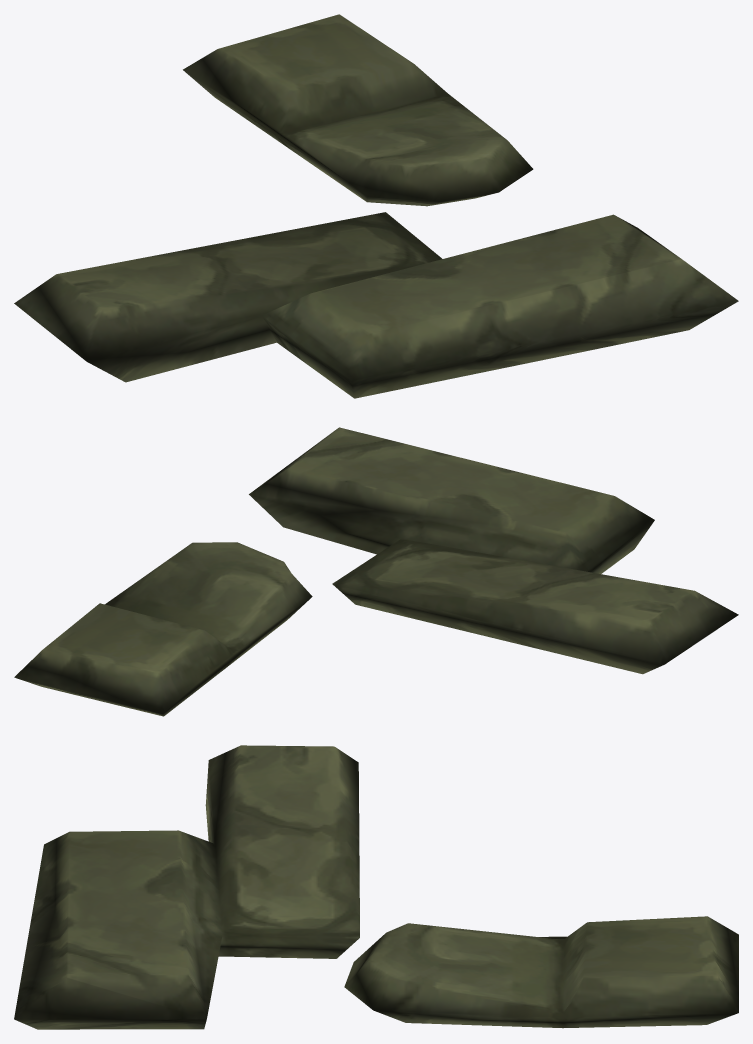
File: loose_rocks_03.fbx
3 views of the same model, one above another, from view 1: azimuth 30°, elevation 25°; view 2: azimuth 150°, elevation 25°; view 3: azimuth 270°, elevation 25° (orthographic). The views are drawn at different scales.
Parts seen in each view (by area): view 1: loose_rocks_03; view 2: loose_rocks_03; view 3: loose_rocks_03.
Boxes of the visible parts, bbox=[...] form: loose_rocks_03: bbox=[14, 14, 738, 398]; loose_rocks_03: bbox=[14, 427, 738, 716]; loose_rocks_03: bbox=[14, 745, 738, 1029].
Bounding box in the file's own units: 169 × 17.6 × 200.
